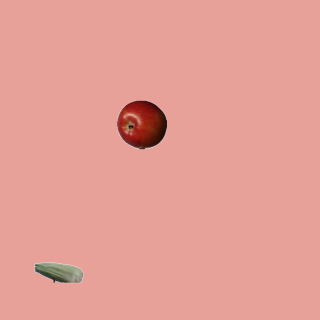Apple Braeburn: (116, 99, 166, 149)
Corn Husk: (33, 247, 83, 297)
